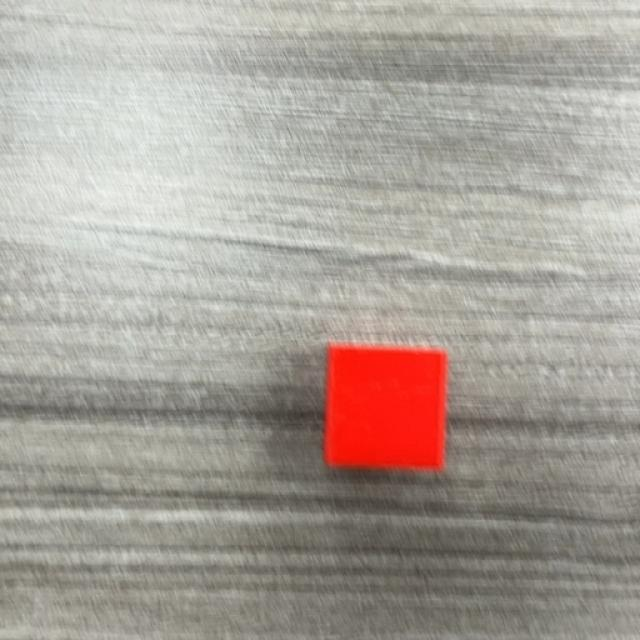Rojo: (322, 345, 450, 476)
